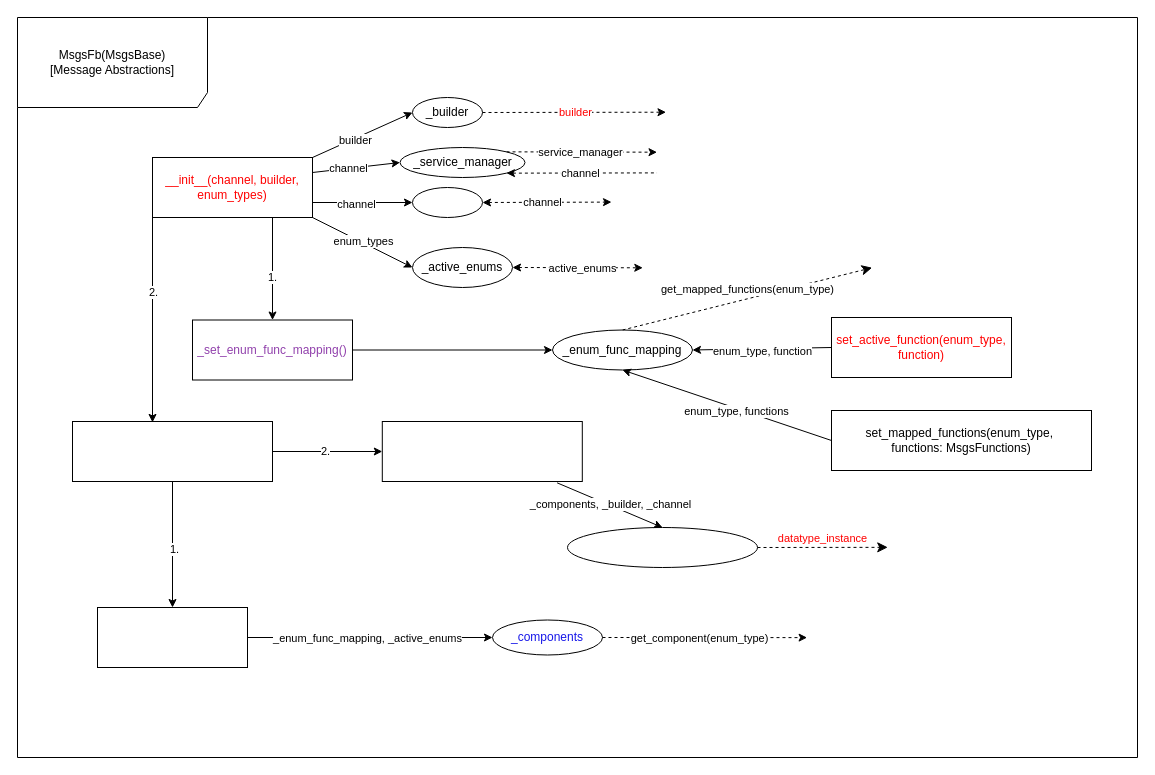
Some shapes in this 1155 by 775 pixel diagram are drawn without their labels. Here are the shapes that lost their labels. From the top down, the centre of each, then its label:
At (x=447, y=202): "_channel".
At (x=172, y=451): "assemble_datatype_instance()".
At (x=481, y=451): "_assemble_datatype_instance()".
At (x=662, y=547): "_assembled_datatype_instance".
At (x=172, y=637): "_assemble_components()".
